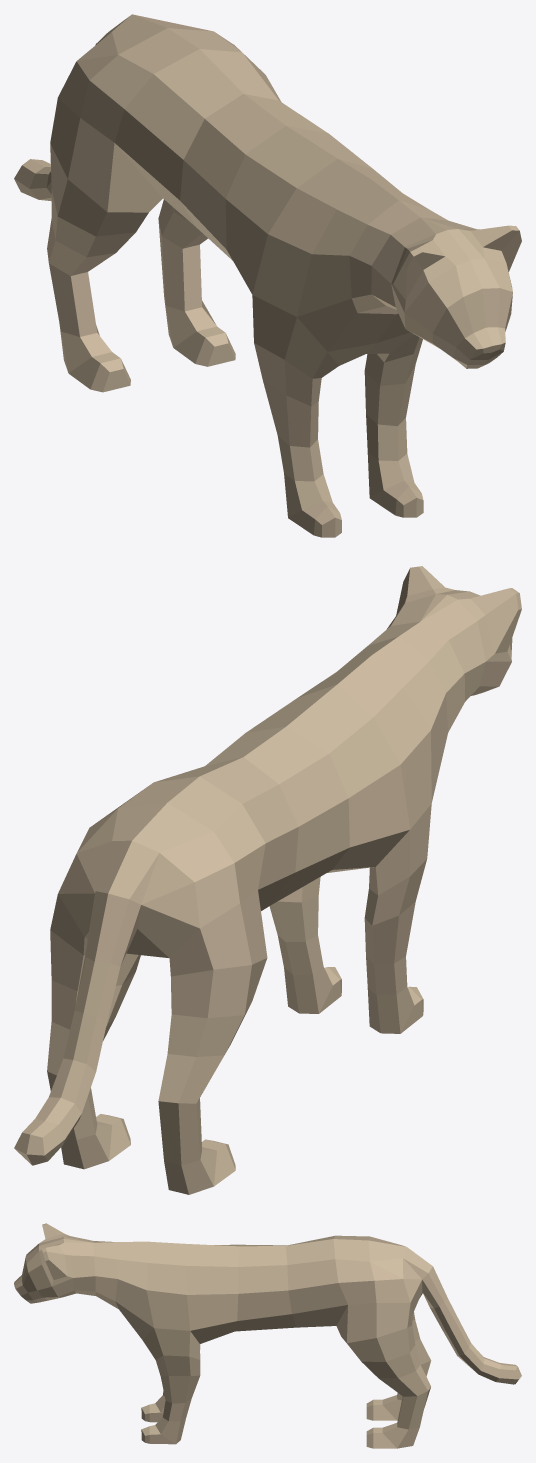
Rendered from zheng.glb.
The picture shows the model from 3 angles, top to bottom: view 1: azimuth 30°, elevation 25°; view 2: azimuth 150°, elevation 25°; view 3: azimuth 270°, elevation 25°; orthographic projection. The views are drawn at different scales.
Parts seen in each view (by area): view 1: Ocelot_mesh; view 2: Ocelot_mesh; view 3: Ocelot_mesh.
Part boxes in pixels (<box>): Ocelot_mesh: <box>14,14,521,537</box>; Ocelot_mesh: <box>14,566,521,1194</box>; Ocelot_mesh: <box>14,1223,521,1448</box>.
Size of the model in its own units: 2.92 by 5.31 by 12.63.
